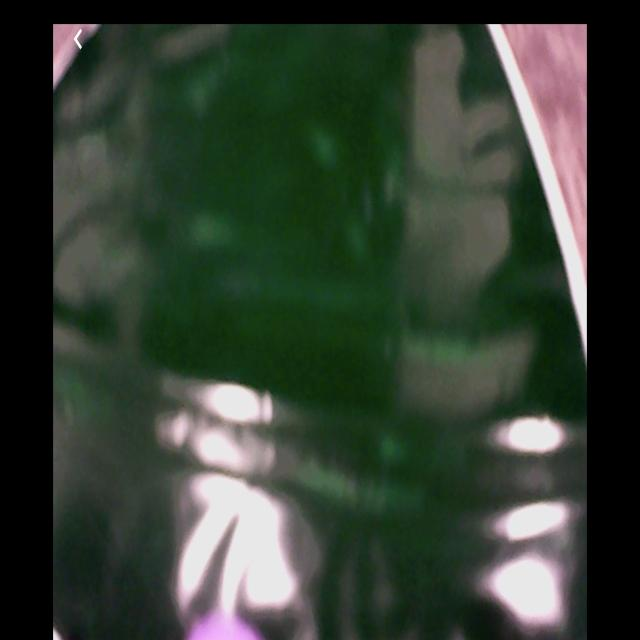ball: (186, 607, 265, 639)
